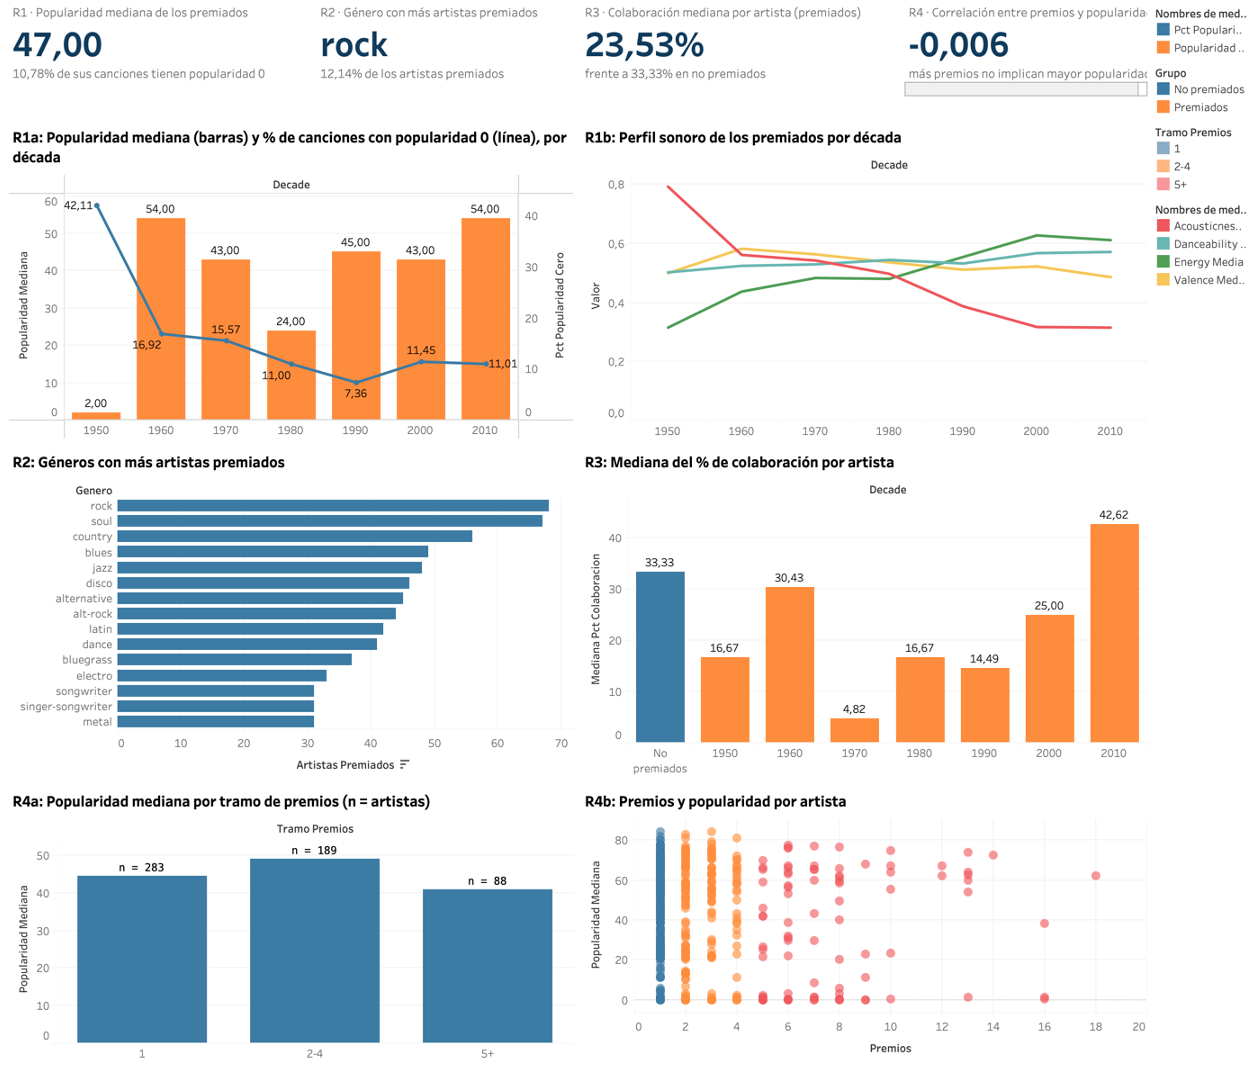

Layout of this report page (visuals, bound fields, positions):
{"tool":"tableau","page":{"name":"Dashboard 1","canvas":[1400,1200],"ordinal":0},"visuals":[{"type":"worksheet","title":"KPI R1","mark":"Automatic","box":[8,8,342.4,131]},{"type":"worksheet","title":"KPI R2","mark":"Automatic","box":[350.4,8,294.1,131]},{"type":"worksheet","title":"KPI R3","mark":"Automatic","box":[644.5,8,359.8,131]},{"type":"worksheet","title":"KPI R4","mark":"Automatic","box":[1004.3,8,276.7,131]},{"type":"legend","title":"R1a: popularidad","param":"[federated.0utjyib03182sn1bprezn0yrz6q2].[:Measure Names]","box":[1281,8,111,66]},{"type":"dashboard-object","box":[1316,12,24,36]},{"type":"legend","title":"R3","param":"[federated.1gsyh650bm64w710q5a5719ashye].[none:grupo:nk]","box":[1281,74,111,66]},{"type":"worksheet","title":"R1a: popularidad","mark":"Line","rows":["popularidad_mediana","pct_popularidad_cero"],"cols":["decade"],"box":[8,139,636.5,361]},{"type":"worksheet","title":"R1b","mark":"Line","cols":["decade"],"box":[644.5,139,636.5,361]},{"type":"legend","title":"R4b","param":"[federated.0afl13b148x73j0znkle61ywslje].[none:tramo_premios:nk]","box":[1281,140,111,86]},{"type":"legend","title":"R1b","param":"[federated.0utjyib03182sn1bprezn0yrz6q2].[:Measure Names]","box":[1281,226,111,106]},{"type":"worksheet","title":"R2","mark":"Bar","rows":["genero"],"cols":["artistas_premiados"],"box":[8,500,636.5,377]},{"type":"worksheet","title":"R3","mark":"Bar","rows":["mediana_pct_colaboracion"],"cols":["decade"],"box":[644.5,500,636.5,377]},{"type":"worksheet","title":"R4a","mark":"Bar","rows":["popularidad_mediana"],"cols":["tramo_premios"],"box":[8,877,636.5,315]},{"type":"worksheet","title":"R4b","mark":"Circle","rows":["popularidad_mediana"],"cols":["premios"],"box":[644.5,877,636.5,315]}]}

Visuals, with their boxes in screenshot pixels (x1, y1, x2, y2), scaled from the page's 1400x1200 canvas onto the 1257x1073 screenshot:
"KPI R1" worksheet: [x1=7, y1=7, x2=315, y2=124]
"KPI R2" worksheet: [x1=315, y1=7, x2=579, y2=124]
"KPI R3" worksheet: [x1=579, y1=7, x2=902, y2=124]
"KPI R4" worksheet: [x1=902, y1=7, x2=1150, y2=124]
"R1a: popularidad" legend: [x1=1150, y1=7, x2=1250, y2=66]
dashboard-object: [x1=1182, y1=11, x2=1203, y2=43]
"R3" legend: [x1=1150, y1=66, x2=1250, y2=125]
"R1a: popularidad" worksheet (Line marks): [x1=7, y1=124, x2=579, y2=447]
"R1b" worksheet (Line marks): [x1=579, y1=124, x2=1150, y2=447]
"R4b" legend: [x1=1150, y1=125, x2=1250, y2=202]
"R1b" legend: [x1=1150, y1=202, x2=1250, y2=297]
"R2" worksheet (Bar marks): [x1=7, y1=447, x2=579, y2=784]
"R3" worksheet (Bar marks): [x1=579, y1=447, x2=1150, y2=784]
"R4a" worksheet (Bar marks): [x1=7, y1=784, x2=579, y2=1066]
"R4b" worksheet (Circle marks): [x1=579, y1=784, x2=1150, y2=1066]
